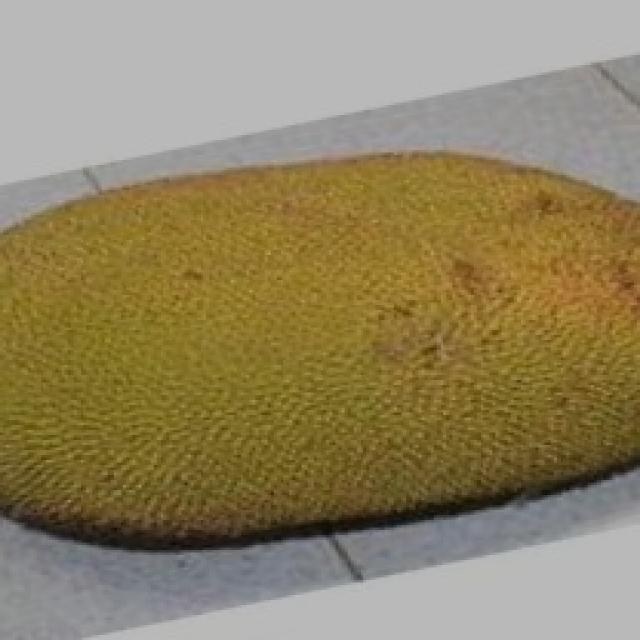Fruit: (243, 107, 640, 385)
